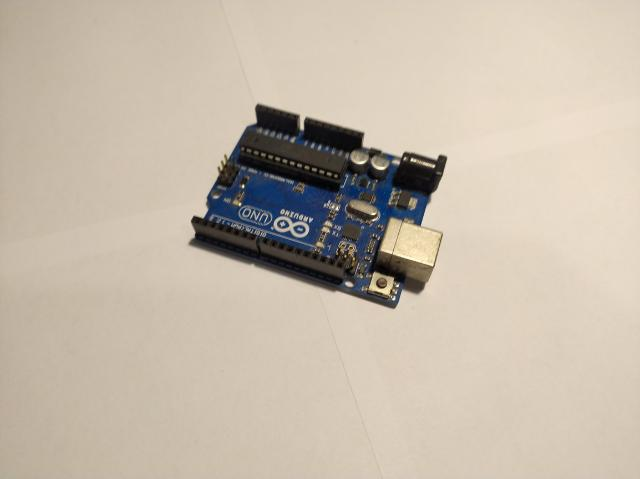arduino: (192, 102, 448, 308)
